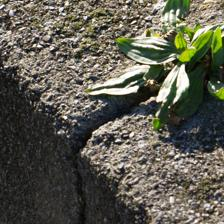Crack: (34, 49, 109, 169)
